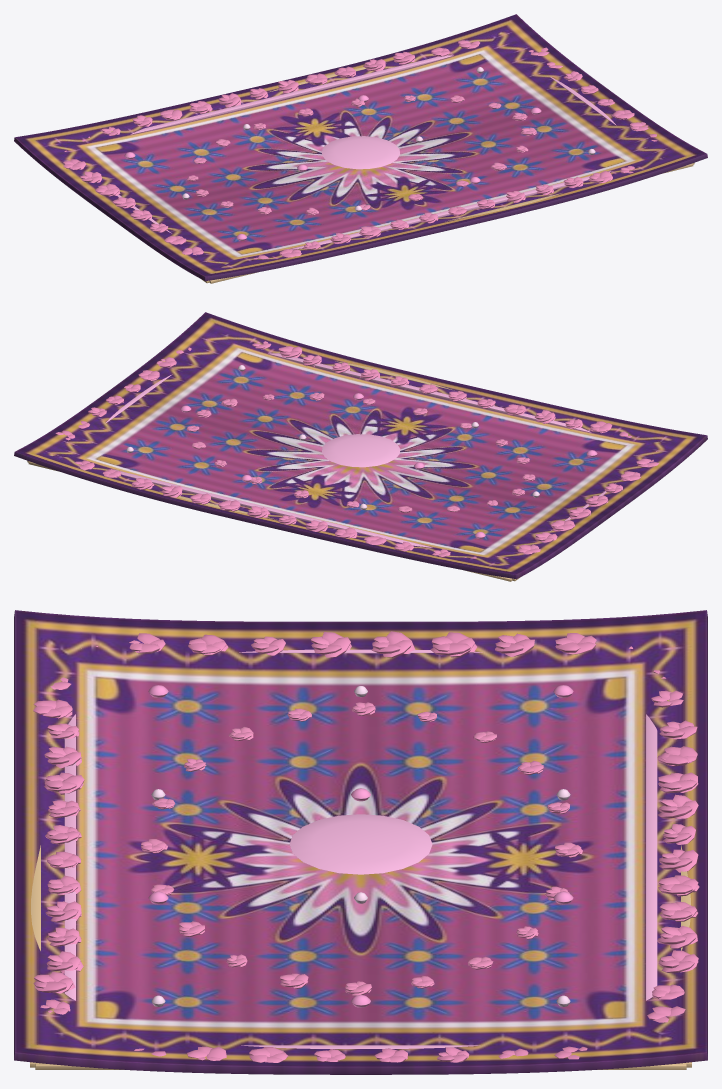
File: carpet.glb
The picture shows the model from 3 angles, top to bottom: view 1: azimuth 30°, elevation 25°; view 2: azimuth 150°, elevation 25°; view 3: azimuth 270°, elevation 25°; orthographic projection. The views are drawn at different scales.
Parts seen in each view (by area): view 1: carpet; view 2: carpet; view 3: carpet.
Part boxes in pixels (x1,y1,x2,y2): carpet: (14,14,707,283); carpet: (14,312,707,581); carpet: (14,610,707,1074).
Bounding box in the file's own units: 2.05 × 0.0829 × 1.35.
Materials: 6 (1 with a texture image).
